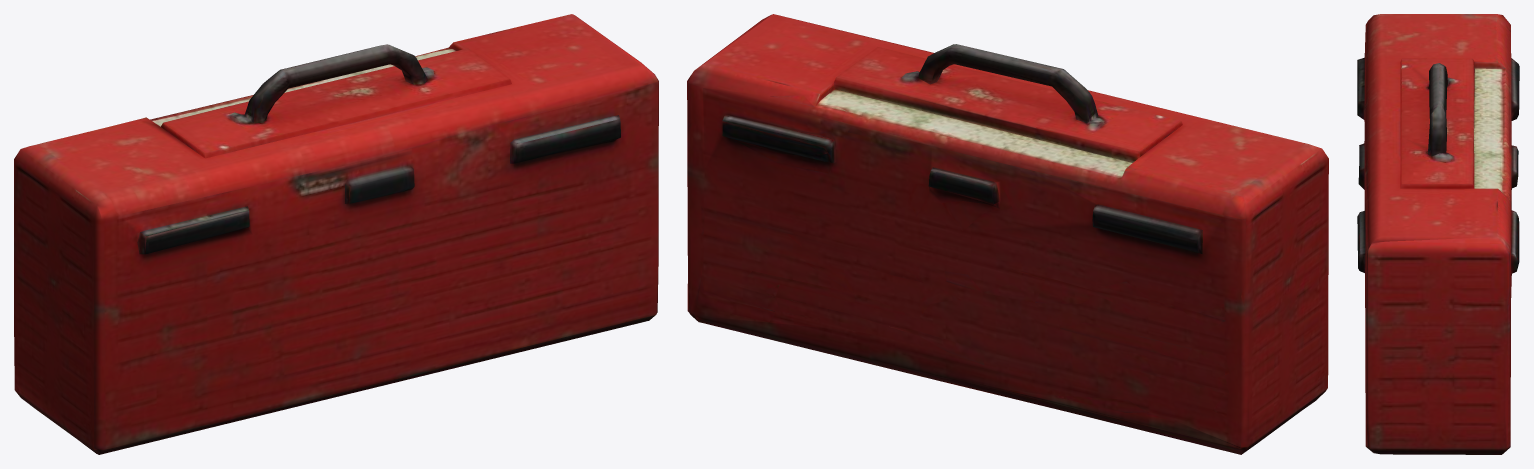
File: toolbox.glb
3 views of the same model, side by side, from view 1: azimuth 30°, elevation 25°; view 2: azimuth 150°, elevation 25°; view 3: azimuth 270°, elevation 25° (orthographic). The views are drawn at different scales.
Visible parts, largest first — view 1: toolbox; view 2: toolbox; view 3: toolbox.
Boxes of the visible parts, bbox=[...] form: toolbox: bbox=[14, 14, 658, 454]; toolbox: bbox=[687, 14, 1328, 454]; toolbox: bbox=[1357, 14, 1519, 454].
Bounding box in the file's own units: 1 × 0.5204 × 0.2954.
Materials: 1 (1 with a texture image).
